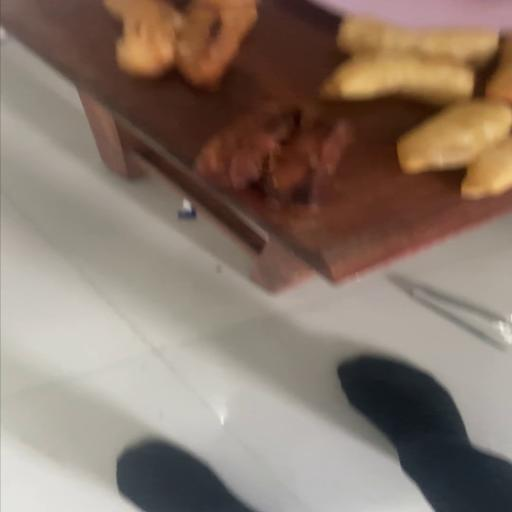street_golden_good: (320, 19, 509, 194)
